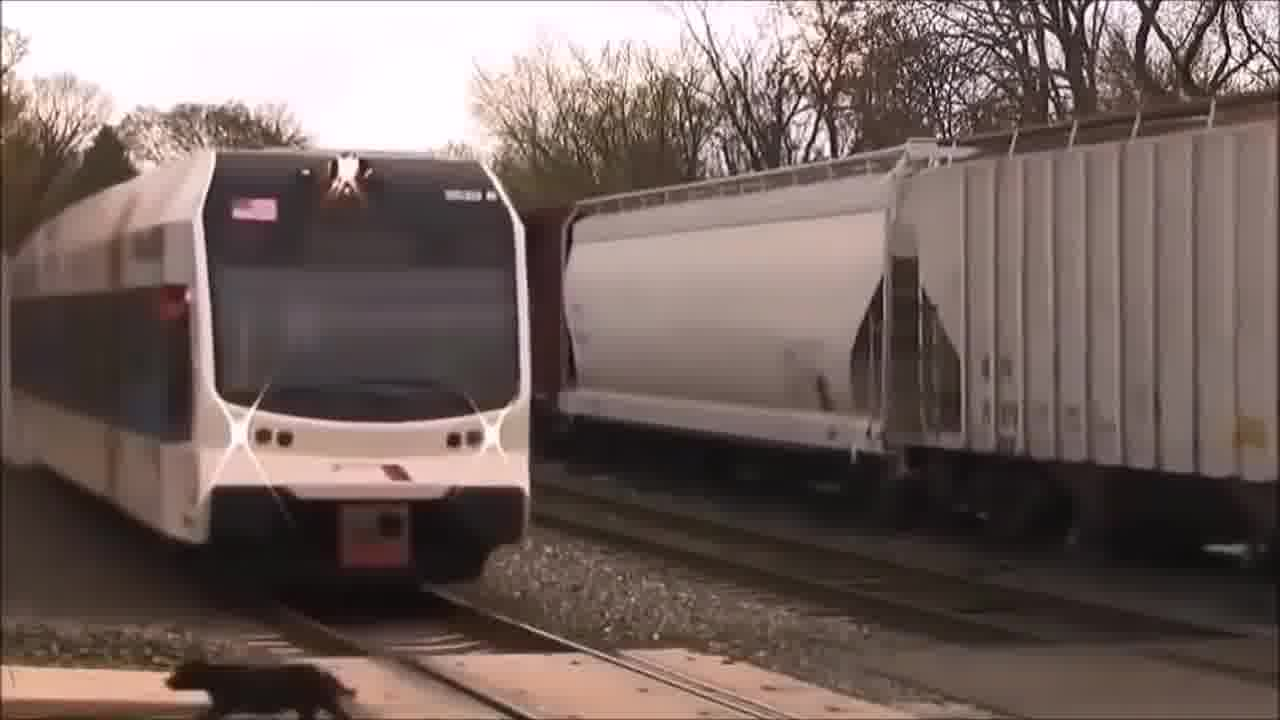crossing railway track: (171, 545, 856, 720)
